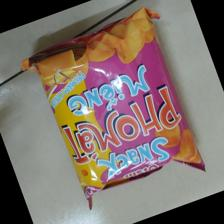Oishi_phomat: (19, 5, 208, 218)
